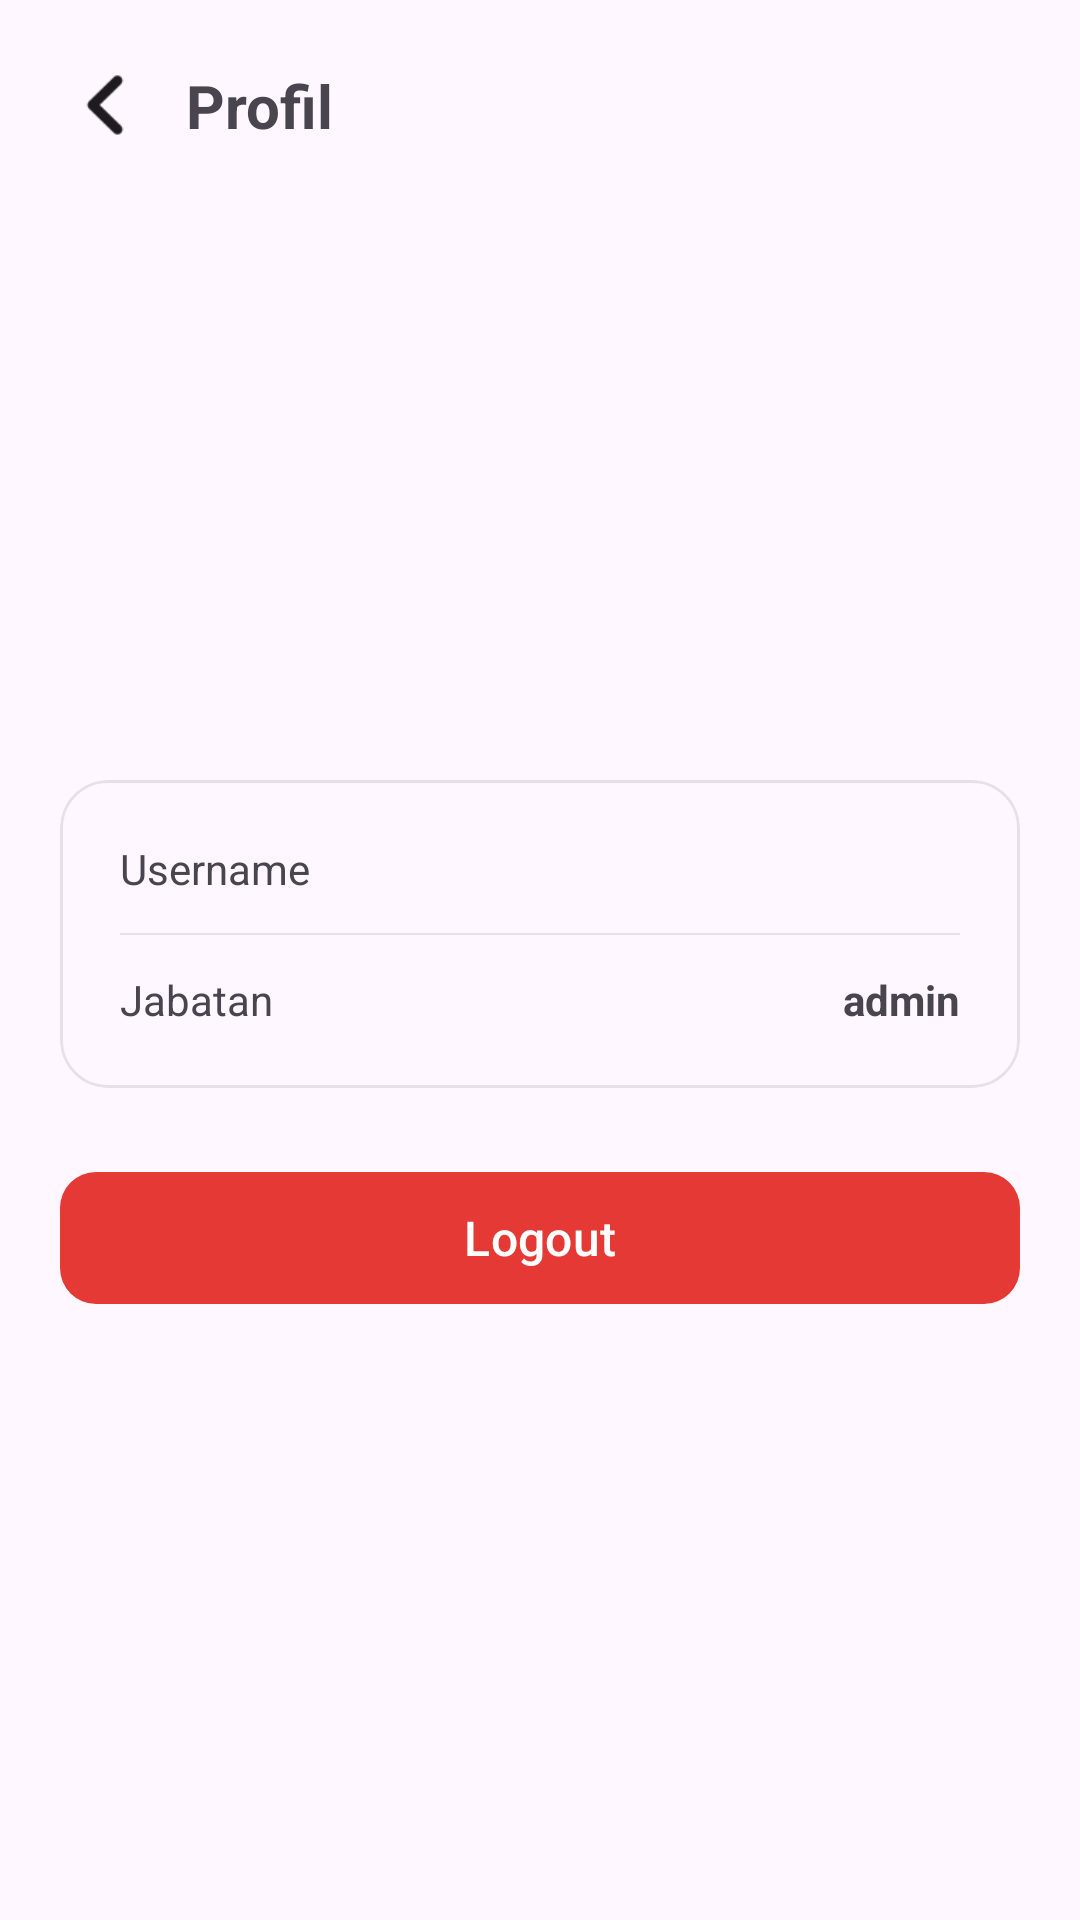

Icon click points for this 1080px x 1920px phone screenshot, format point (x, y):
Kembali: point (105, 105)
